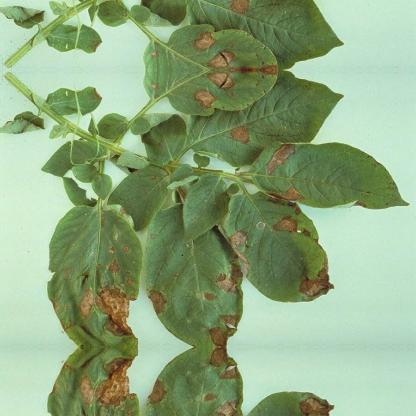Early-Blight: (13, 69, 408, 343), (12, 0, 407, 69), (12, 349, 407, 416), (145, 196, 255, 340), (220, 178, 344, 300), (40, 200, 142, 344), (245, 138, 415, 214), (179, 87, 355, 156), (179, 0, 355, 51), (133, 69, 293, 115), (133, 23, 293, 69), (145, 352, 255, 416), (39, 348, 142, 416), (220, 391, 344, 416)
